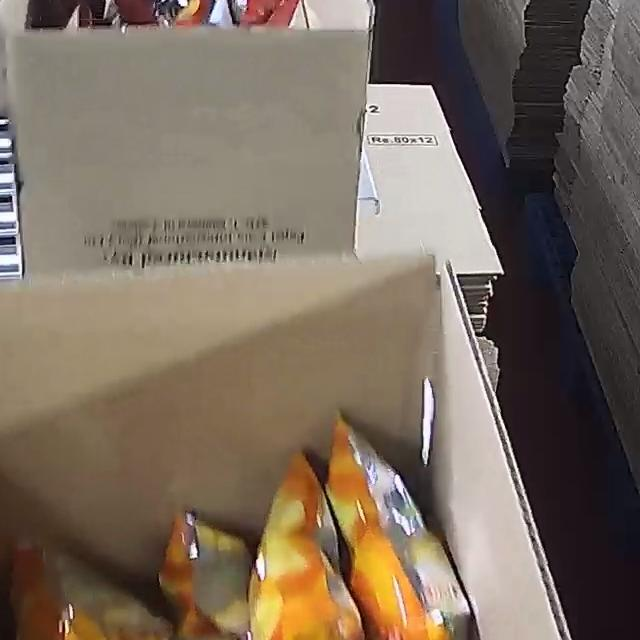cheese: (0, 412, 499, 640)
masala: (37, 0, 345, 27)
